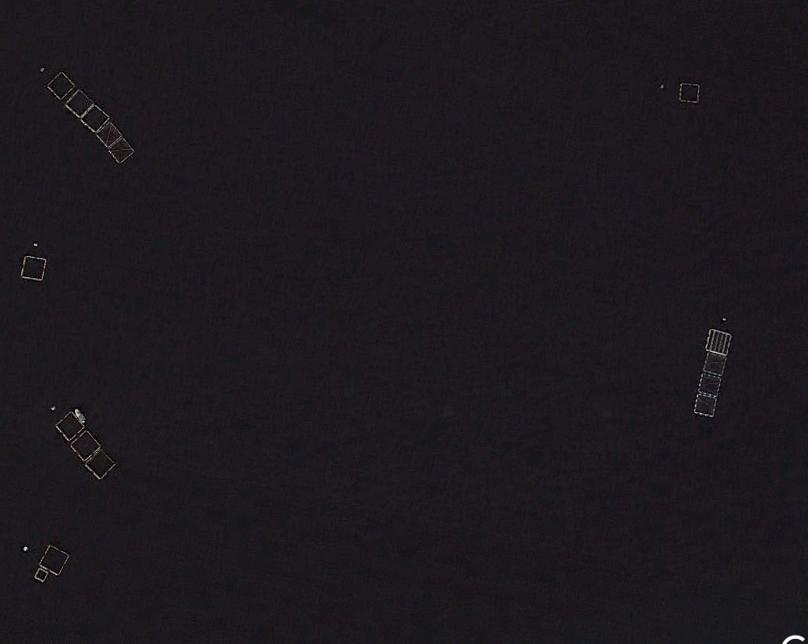ship: (69, 403, 88, 426)
square: (51, 406, 86, 446), (85, 445, 118, 486), (36, 540, 71, 577), (67, 425, 100, 464), (14, 253, 52, 286), (41, 66, 75, 100), (61, 86, 94, 118), (77, 102, 108, 133), (676, 77, 706, 108), (687, 392, 719, 421), (701, 347, 730, 378), (696, 369, 725, 400), (705, 326, 733, 357), (108, 133, 134, 165), (94, 118, 120, 148), (26, 563, 50, 586)
